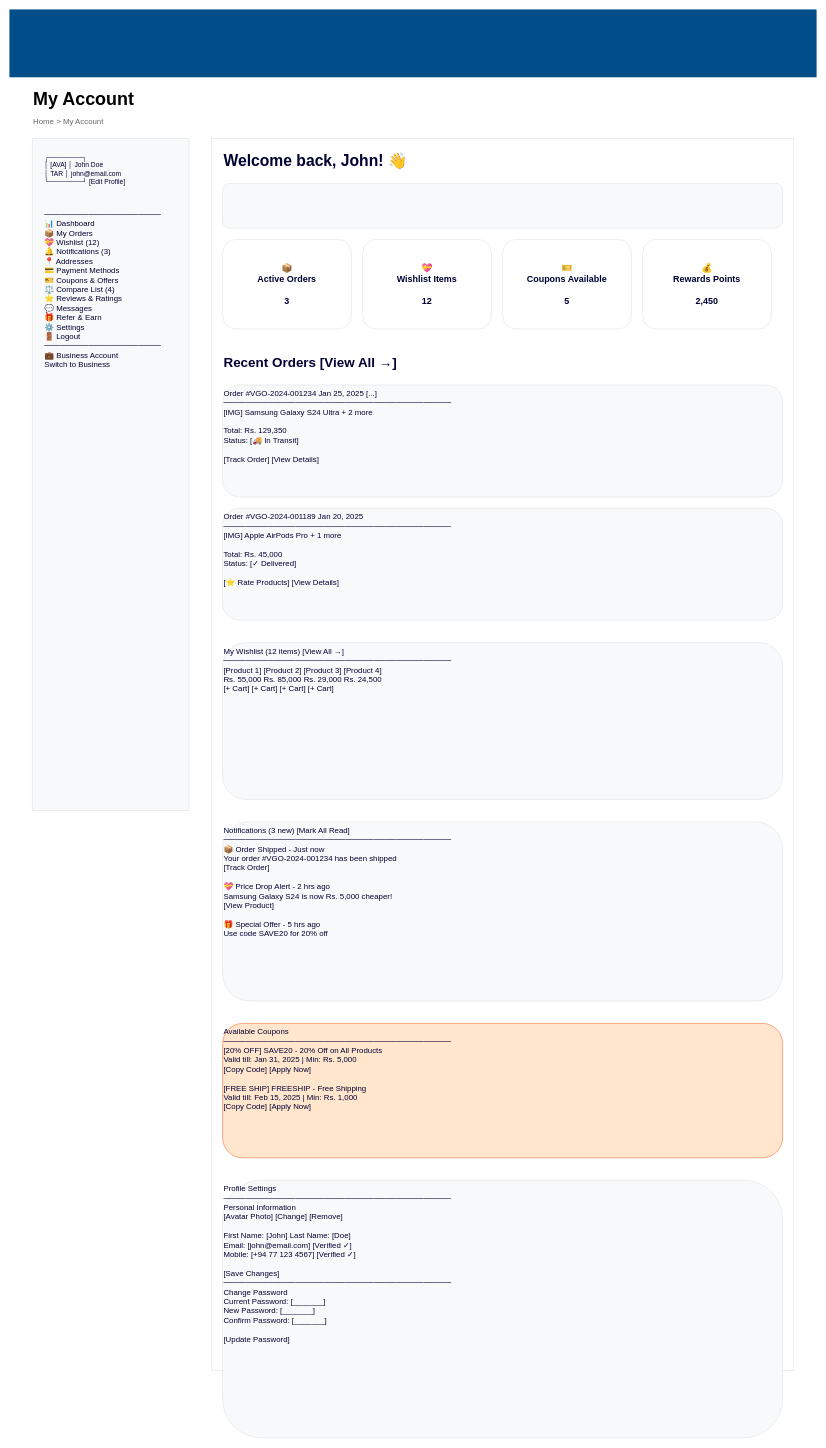
This 826x1448 diagram has some shape labels left out. Here are the shapes that lost their labels. From the top down, the centre of each, then its label:
(x=412, y=43): [HEADER - VGO Logo | Search | User | Cart]
(x=502, y=205): Quick Actions [📦 Track Orders] [🛒 Continue Shopping] [💝 Wishlist]
